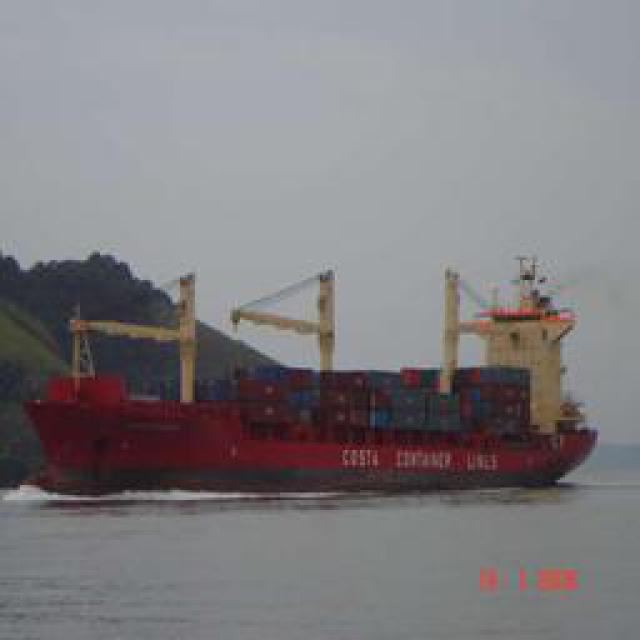Ship: (11, 292, 599, 495)
